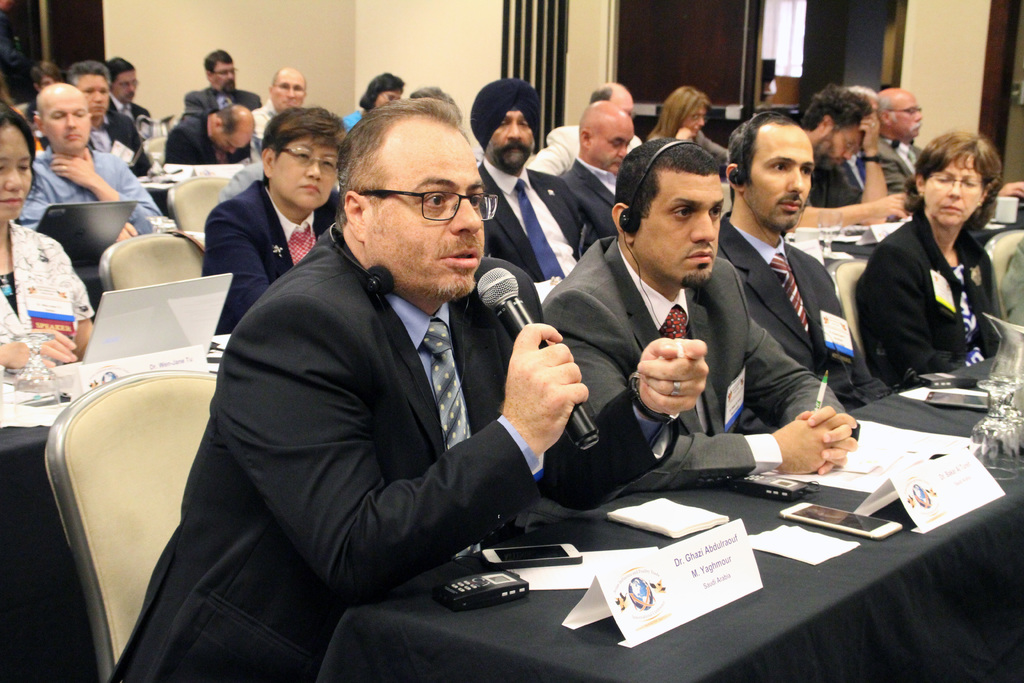Human-face: (365, 129, 491, 300), (639, 171, 724, 288), (751, 122, 819, 233), (277, 138, 344, 210), (927, 156, 978, 224), (42, 86, 92, 152), (491, 110, 537, 173), (0, 127, 29, 222), (818, 120, 863, 174), (588, 115, 632, 170), (76, 69, 112, 114), (893, 94, 924, 138), (276, 74, 301, 110), (683, 102, 709, 136), (222, 131, 251, 156), (372, 92, 402, 110), (117, 68, 134, 99), (611, 89, 630, 114), (216, 65, 234, 90), (40, 76, 60, 92)
